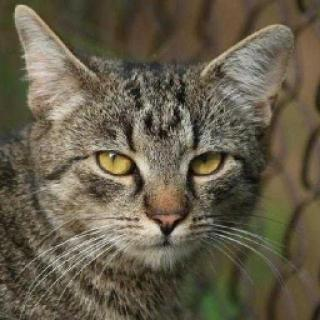cat: (15, 2, 294, 278)
nose: (138, 176, 192, 233)
